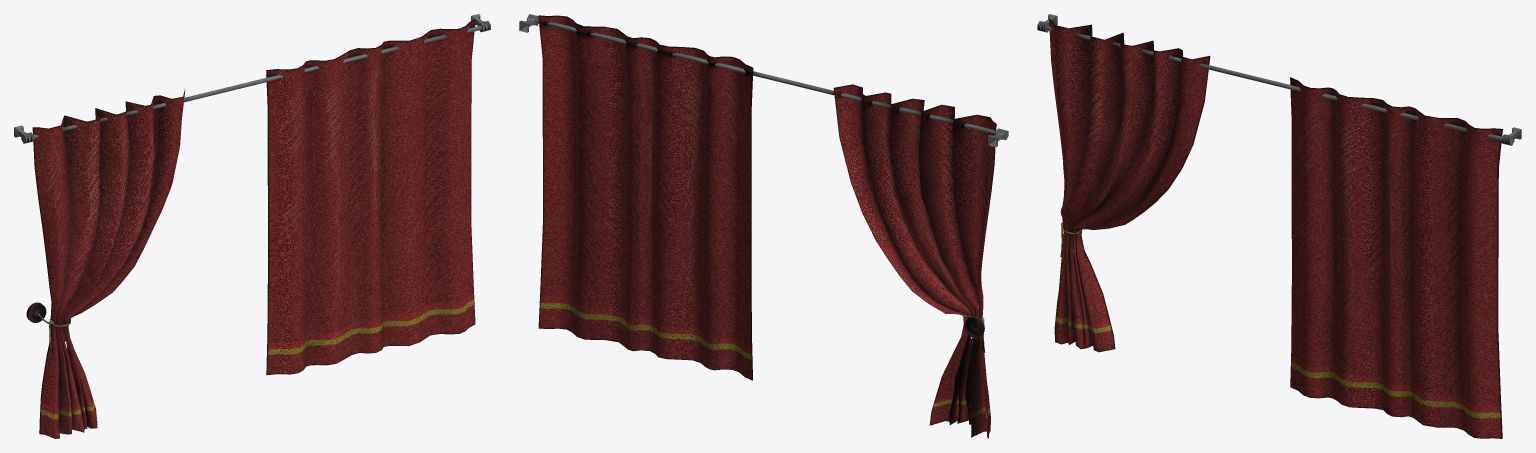
File: curtains.fbx
The picture shows the model from 3 angles, left to right: view 1: azimuth 30°, elevation 25°; view 2: azimuth 150°, elevation 25°; view 3: azimuth 330°, elevation 25°; orthographic projection. The views are drawn at different scales.
Parts seen in each view (by area): view 1: polySurface1619; view 2: polySurface1619; view 3: polySurface1619.
Part boxes in pixels (x1,y1,x2,y2): polySurface1619: [14, 14, 490, 438]; polySurface1619: [519, 14, 1008, 438]; polySurface1619: [1037, 14, 1521, 438].
Bounding box in the file's own units: 505 × 323 × 37.92.
